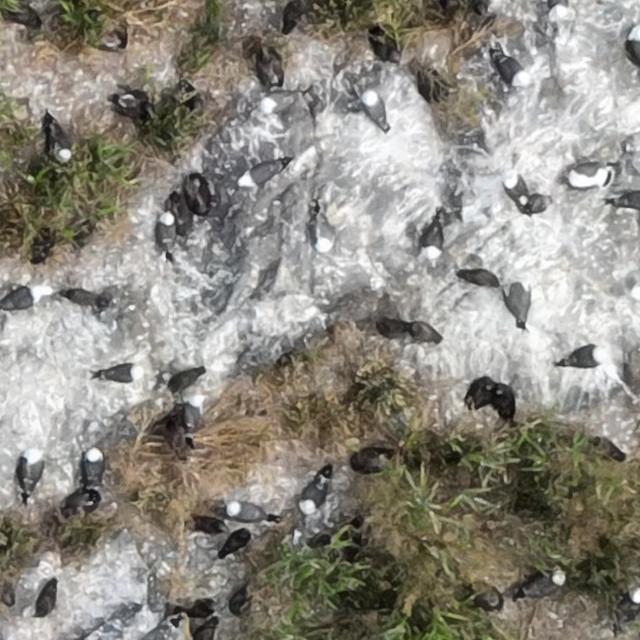umineko: (504, 272, 530, 324), (183, 392, 206, 439), (495, 53, 525, 83), (524, 573, 562, 596), (242, 163, 279, 184), (427, 218, 444, 262), (363, 92, 384, 127), (566, 347, 602, 366), (2, 289, 35, 309), (260, 92, 294, 111), (302, 479, 324, 508), (51, 132, 70, 165), (227, 504, 261, 522), (315, 215, 332, 250), (85, 450, 103, 482), (507, 180, 529, 206), (573, 165, 602, 183), (104, 368, 138, 383), (158, 214, 174, 244), (24, 456, 40, 486), (616, 192, 640, 209), (628, 583, 639, 603)
